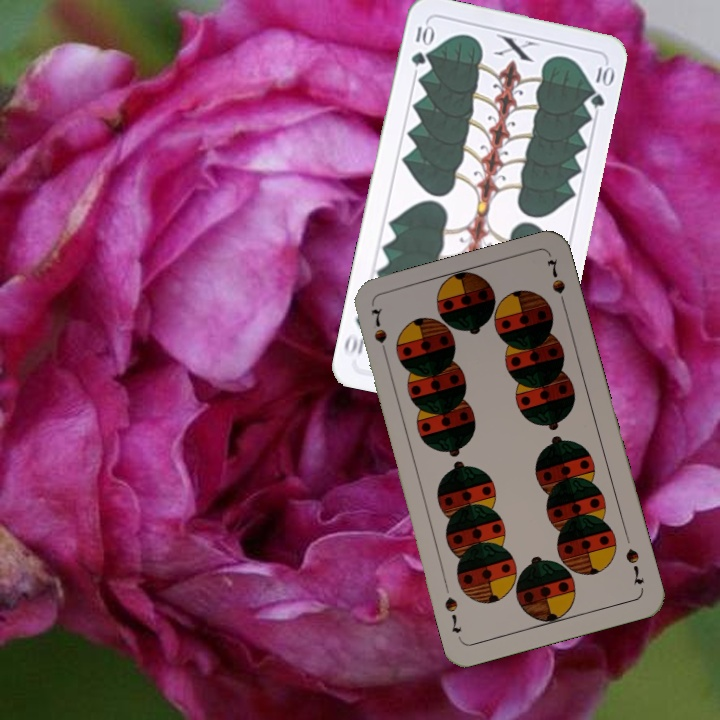G10: (407, 20, 436, 68)
S7: (367, 304, 391, 362), (621, 544, 647, 588)
